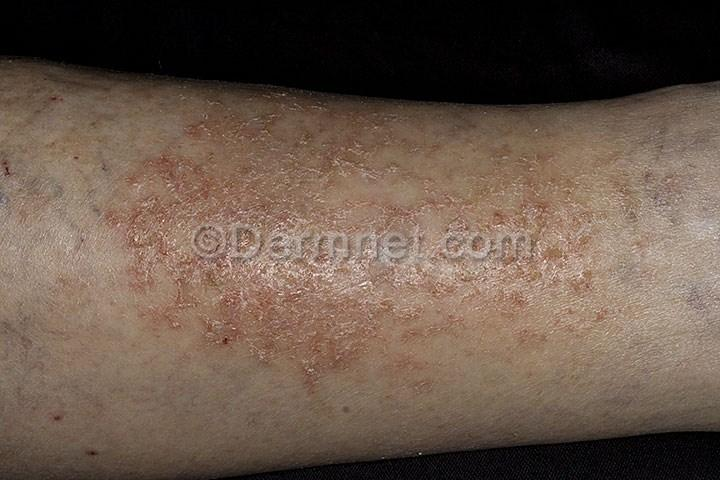Eczema: (102, 173, 207, 235), (246, 162, 321, 239), (361, 223, 432, 288), (411, 154, 470, 228), (127, 272, 202, 329), (460, 280, 524, 345), (277, 297, 344, 359), (449, 232, 534, 280), (287, 233, 351, 293), (511, 276, 579, 332), (281, 126, 344, 186), (130, 227, 224, 267), (233, 241, 291, 305), (206, 270, 263, 330), (332, 123, 384, 185), (476, 169, 524, 234), (252, 323, 313, 374), (347, 273, 401, 330), (449, 117, 500, 177), (323, 103, 392, 147), (221, 142, 291, 185), (321, 178, 370, 239), (654, 163, 699, 228), (201, 173, 255, 223), (408, 205, 442, 284), (404, 292, 461, 339), (379, 148, 413, 224), (398, 102, 442, 159), (627, 152, 674, 204), (213, 223, 255, 277), (62, 270, 118, 310), (681, 267, 720, 324), (521, 188, 559, 246), (531, 133, 573, 185), (143, 133, 191, 178), (286, 357, 332, 400), (189, 113, 226, 165), (572, 262, 609, 314), (336, 313, 374, 362), (42, 133, 89, 171), (628, 222, 663, 272), (234, 96, 276, 137), (391, 347, 433, 387), (495, 134, 532, 179), (644, 115, 681, 158), (397, 379, 432, 423), (63, 103, 106, 138), (211, 322, 260, 352), (557, 221, 588, 268), (120, 81, 170, 110), (680, 118, 720, 153), (274, 85, 334, 108), (69, 224, 104, 260), (192, 77, 227, 112), (35, 85, 71, 117), (0, 144, 24, 184), (39, 403, 72, 432), (330, 393, 355, 418), (81, 443, 108, 466)
